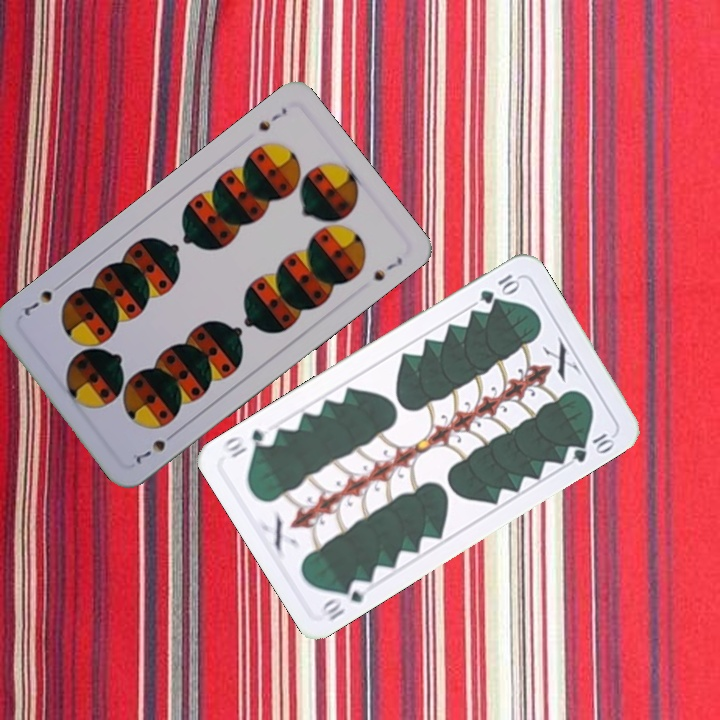G10: (316, 575, 373, 625), (476, 270, 524, 307)
S7: (131, 427, 180, 467), (254, 103, 290, 134)
